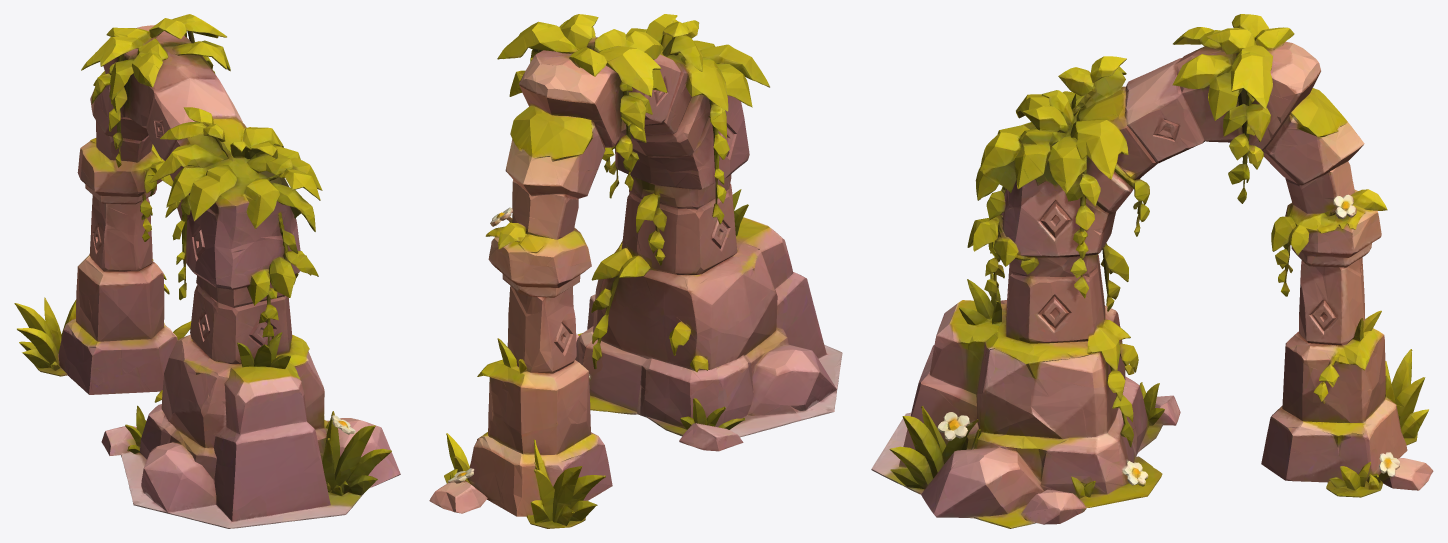
File: KeepSakeRockEntrance.glb
The picture shows the model from 3 angles, left to right: view 1: azimuth 30°, elevation 25°; view 2: azimuth 150°, elevation 25°; view 3: azimuth 270°, elevation 25°; orthographic projection. The views are drawn at different scales.
Parts seen in each view (by area): view 1: tripo_node_5f3ffc8a-5812-431d-b6e7-18720f2455f7; view 2: tripo_node_5f3ffc8a-5812-431d-b6e7-18720f2455f7; view 3: tripo_node_5f3ffc8a-5812-431d-b6e7-18720f2455f7.
Part boxes in pixels (box(x1,y1,x2,y2)): tripo_node_5f3ffc8a-5812-431d-b6e7-18720f2455f7: box(14, 14, 400, 528); tripo_node_5f3ffc8a-5812-431d-b6e7-18720f2455f7: box(429, 14, 842, 528); tripo_node_5f3ffc8a-5812-431d-b6e7-18720f2455f7: box(871, 14, 1433, 528).
Size of the model in its own units: 0.5609 by 0.8431 by 0.9807.
1 material, 1 textured.
